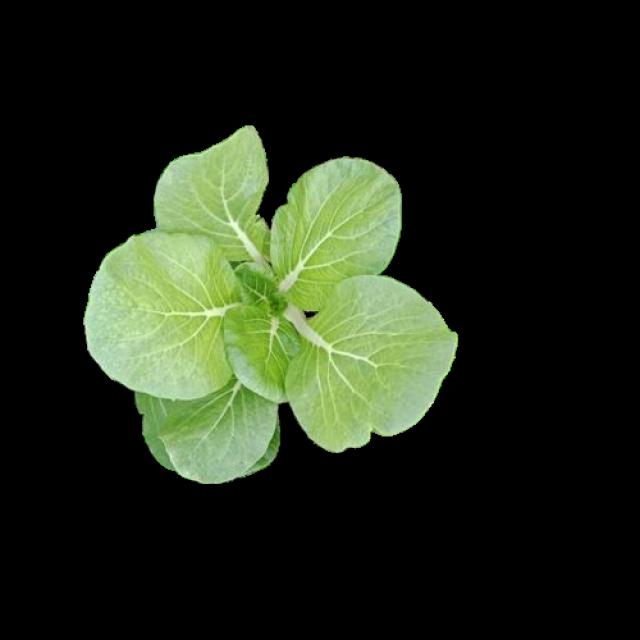healthy: (84, 123, 454, 479)
not-mature: (87, 126, 457, 482)
